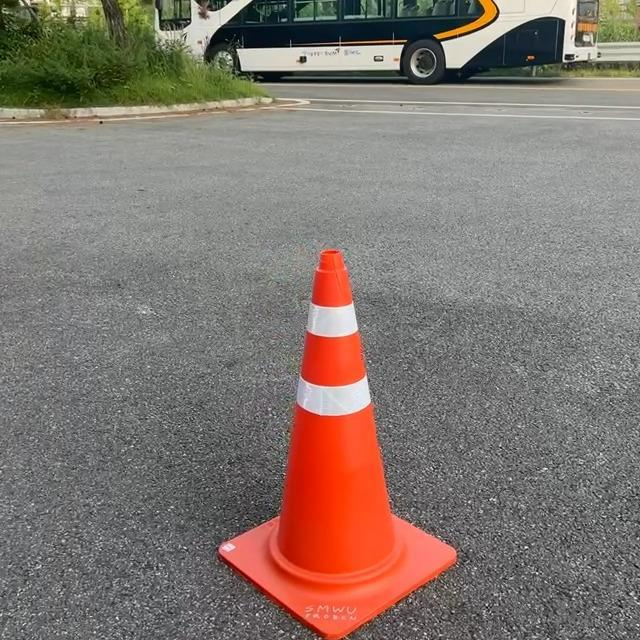fallen_object: (132, 227, 488, 640)
